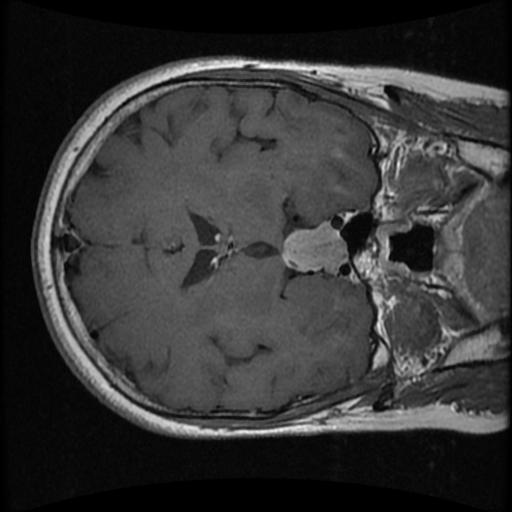pituitary tumour: (283, 220, 347, 275)
